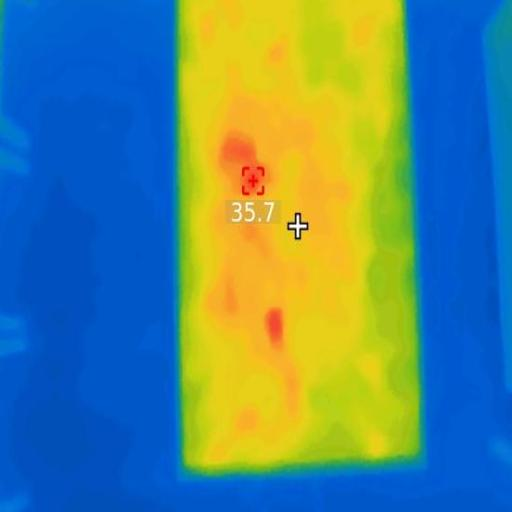hotspot: (217, 134, 264, 195), (266, 300, 286, 351)
